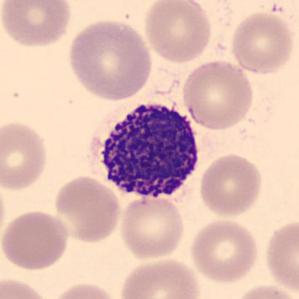Basophil: (85, 94, 207, 207)
RBC: (65, 17, 155, 103), (179, 58, 256, 132), (51, 173, 123, 245), (186, 217, 262, 285), (117, 194, 187, 262), (141, 0, 214, 64), (228, 9, 296, 76), (197, 151, 264, 218), (0, 208, 71, 271), (117, 255, 202, 299), (0, 0, 74, 50), (0, 118, 50, 192), (261, 216, 299, 296), (48, 280, 122, 299), (0, 275, 51, 299), (231, 282, 298, 299), (0, 176, 8, 249)
